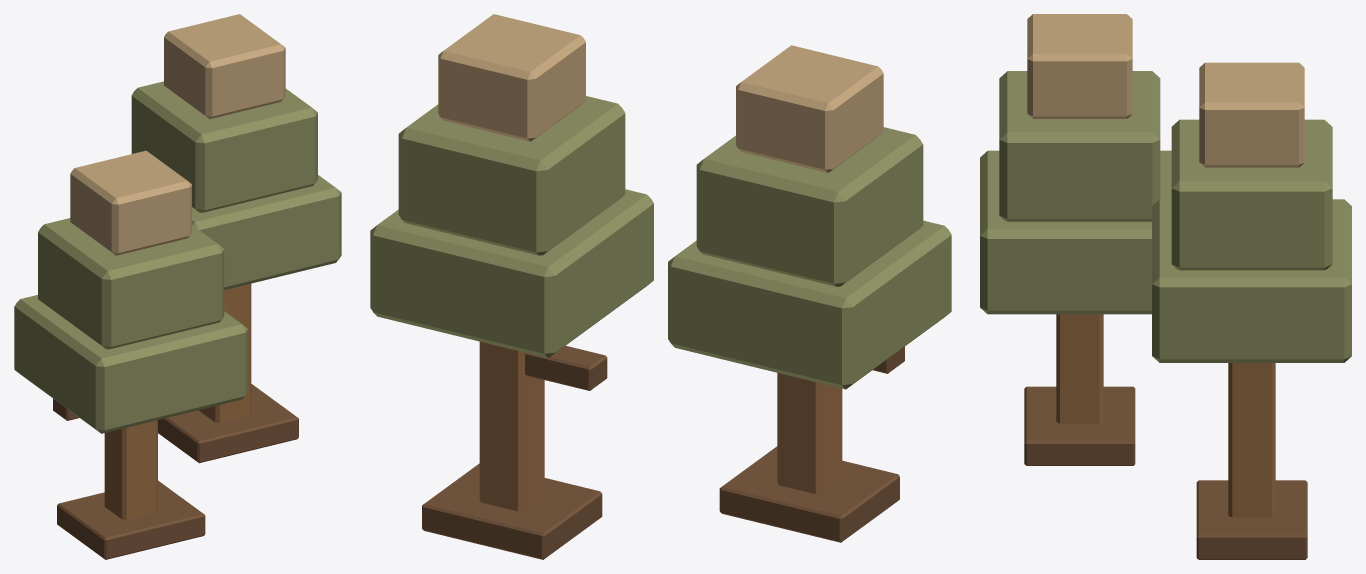
The model's file is warm_woods.glb.
3 renders of one model, left to right at view 1: azimuth 30°, elevation 25°; view 2: azimuth 150°, elevation 25°; view 3: azimuth 270°, elevation 25°, orthographic. The views are drawn at different scales.
Parts seen in each view (by area): view 1: woods_sample_grass, woods_sample_sand, woods_sample_wood_dark, woods_sample_wood; view 2: woods_sample_grass, woods_sample_sand, woods_sample_wood_dark, woods_sample_wood; view 3: woods_sample_grass, woods_sample_sand, woods_sample_wood_dark, woods_sample_wood.
Boxes of the visible parts, x1=… form: woods_sample_grass: x1=14, y1=81, x2=341, y2=433; woods_sample_sand: x1=70, y1=14, x2=285, y2=255; woods_sample_wood_dark: x1=53, y1=384, x2=298, y2=559; woods_sample_wood: x1=104, y1=283, x2=251, y2=519; woods_sample_grass: x1=370, y1=96, x2=951, y2=389; woods_sample_sand: x1=438, y1=14, x2=883, y2=172; woods_sample_wood_dark: x1=422, y1=345, x2=904, y2=559; woods_sample_wood: x1=479, y1=341, x2=842, y2=511; woods_sample_grass: x1=980, y1=71, x2=1351, y2=362; woods_sample_sand: x1=1027, y1=14, x2=1304, y2=167; woods_sample_wood_dark: x1=1024, y1=386, x2=1307, y2=559; woods_sample_wood: x1=1056, y1=314, x2=1275, y2=517.
Bounding box in the file's own units: 0.76 × 0.895 × 0.67.
